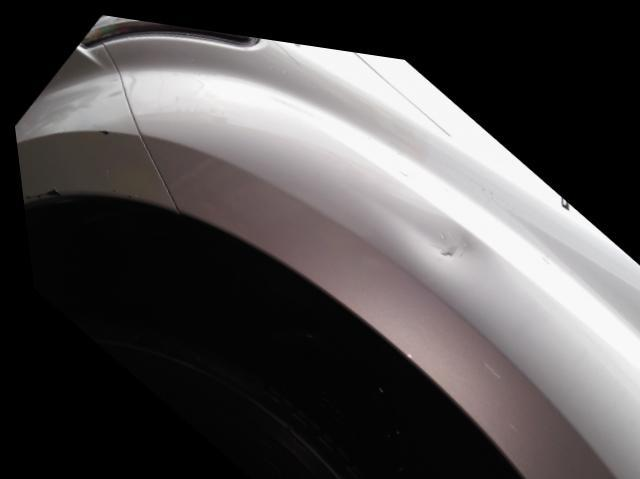dent: (384, 193, 484, 266)
scratch: (18, 190, 58, 203)
